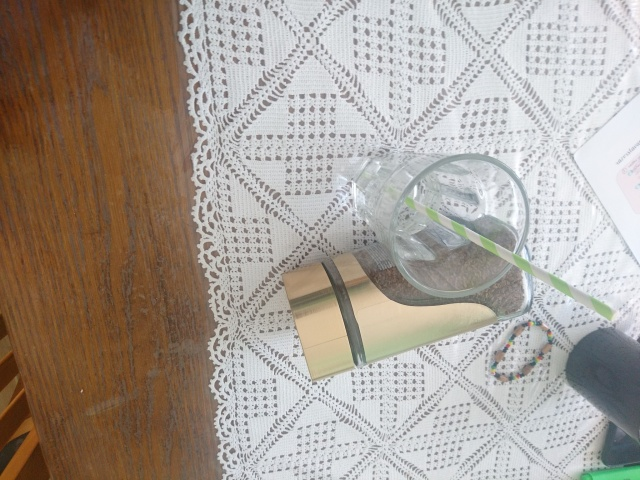Nescafe Gold 225g: (276, 208, 538, 385)
